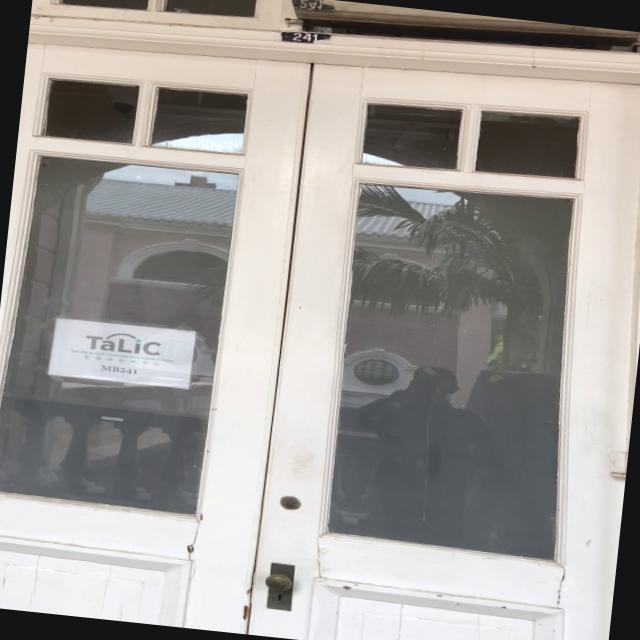room241: (275, 26, 336, 48)
